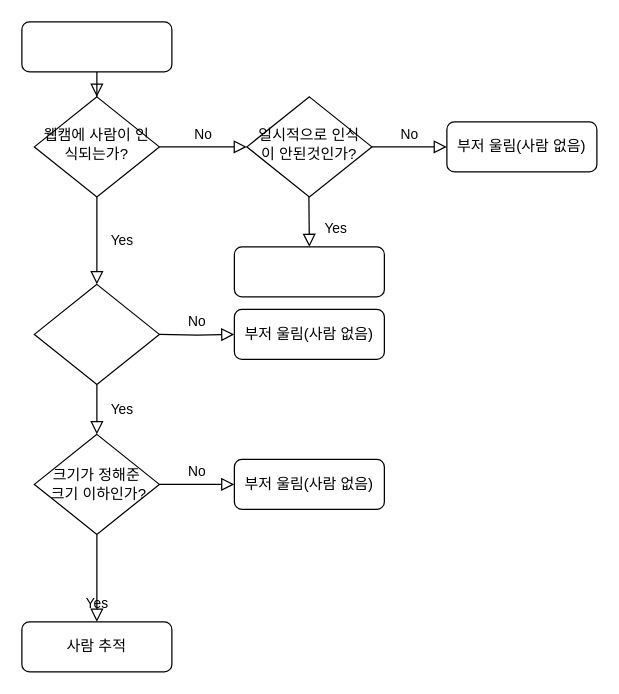
The diagram is 619 pixels wide and 694 high, and some of its shapes have lost their labels. The centre of each missing label's shape, as x and y in pixels:
"각도 범위에 물체가 잡히는가?" goes at (x=96, y=333).
"부저 울림(인식 놓침)" goes at (x=308, y=271).
"프로그램 실행" goes at (x=96, y=46).
